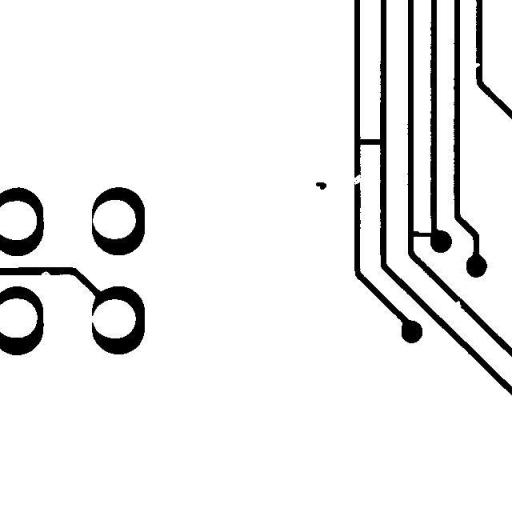copper: (308, 174, 334, 197)
mousebite: (34, 263, 58, 284), (448, 293, 469, 314), (466, 55, 488, 75)
open: (342, 166, 372, 192)
short: (350, 131, 390, 152), (404, 223, 441, 244)
